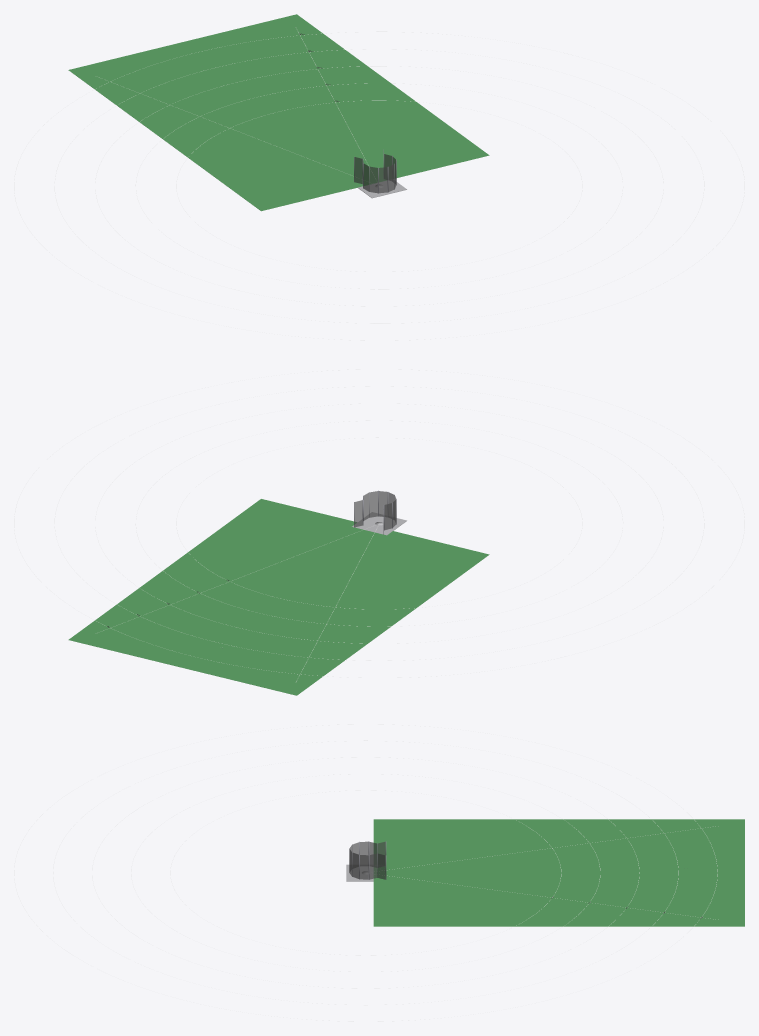
The model's file is Hammer Throw Setup.glb.
The picture shows the model from 3 angles, top to bottom: view 1: azimuth 30°, elevation 25°; view 2: azimuth 150°, elevation 25°; view 3: azimuth 270°, elevation 25°; orthographic projection. The views are drawn at different scales.
Parts seen in each view (by area): view 1: HT_Landing_Field; view 2: HT_Landing_Field, HT_Base_Pad; view 3: HT_Landing_Field.
Part boxes in pixels (x1,y1,x2,y2): HT_Landing_Field: [68, 14, 489, 211]; HT_Landing_Field: [68, 499, 489, 695]; HT_Base_Pad: [352, 512, 406, 535]; HT_Landing_Field: [373, 819, 744, 926].
Bounding box in the file's own units: 180 × 7.12 × 187.
